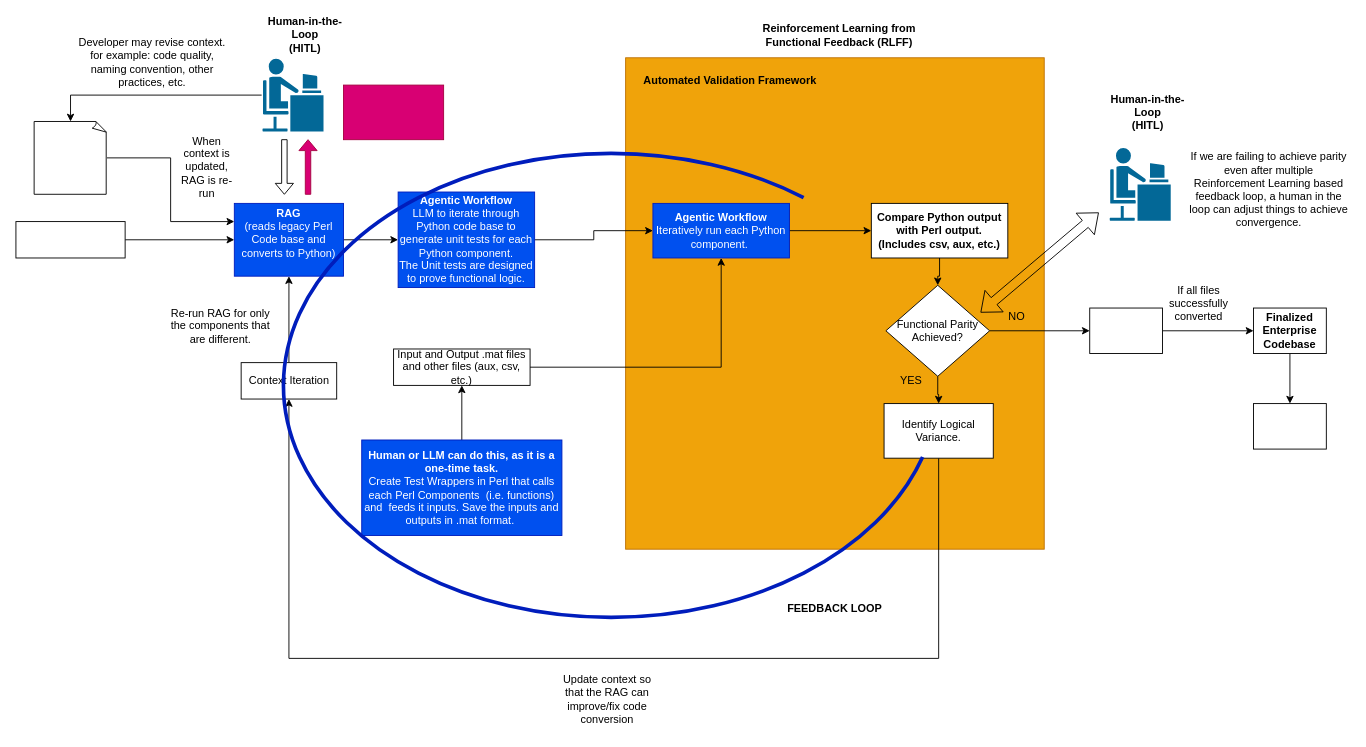
Image size: 1366x747. Some labels were removed from this diagram. The box of each missing label's shape, as (x1, y1, x2, y2) in pixels:
Deploy: (1253, 403, 1326, 449)
Human/Developers reviews the code generated by RAG.: (343, 84, 444, 140)
Legacy Perl Code Repository: (15, 221, 125, 258)
Perl to Python Code Conversion Context.md: (33, 121, 107, 194)
Save the Python code files.: (1089, 307, 1163, 354)
